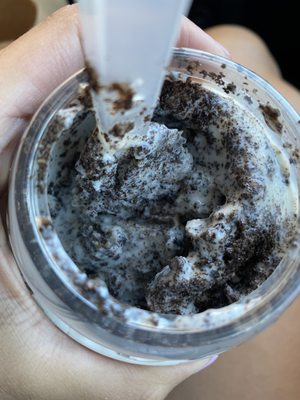sushi: (3, 24, 300, 383)
